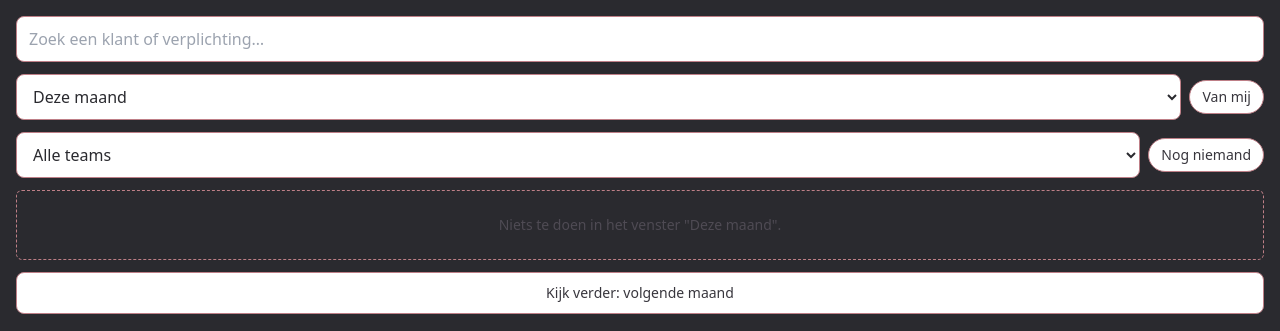
Scenario: TelefoonPage — een leeg venster is geen doodlopend eind › houdt op met vooruitkijken bij "Alles"
The width and height of the screenshot is (1280, 331).
Expected: the button "Kijk verder: volgende maand" is shown, [16, 272, 1264, 314]
Select "Alles" in the dropdown named "Deadlinevenster" at (599, 97), box [16, 74, 1181, 120]
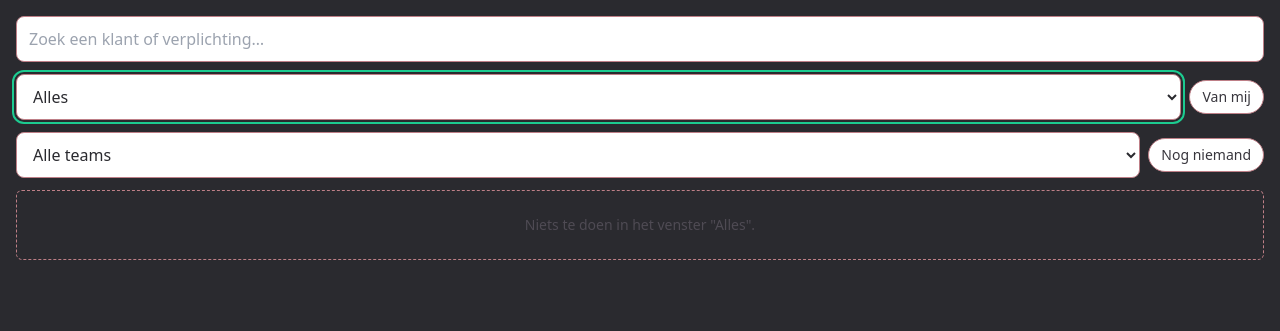
Result: the button "Kijk verder" is gone
